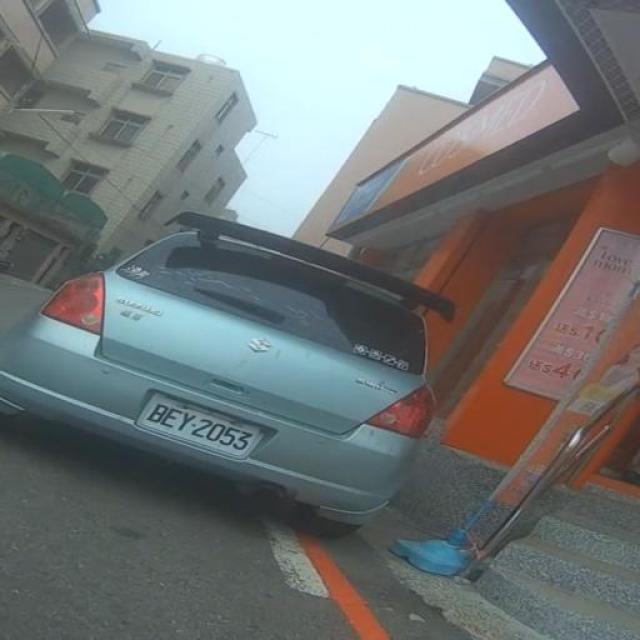illegalparking: (0, 187, 523, 570)
